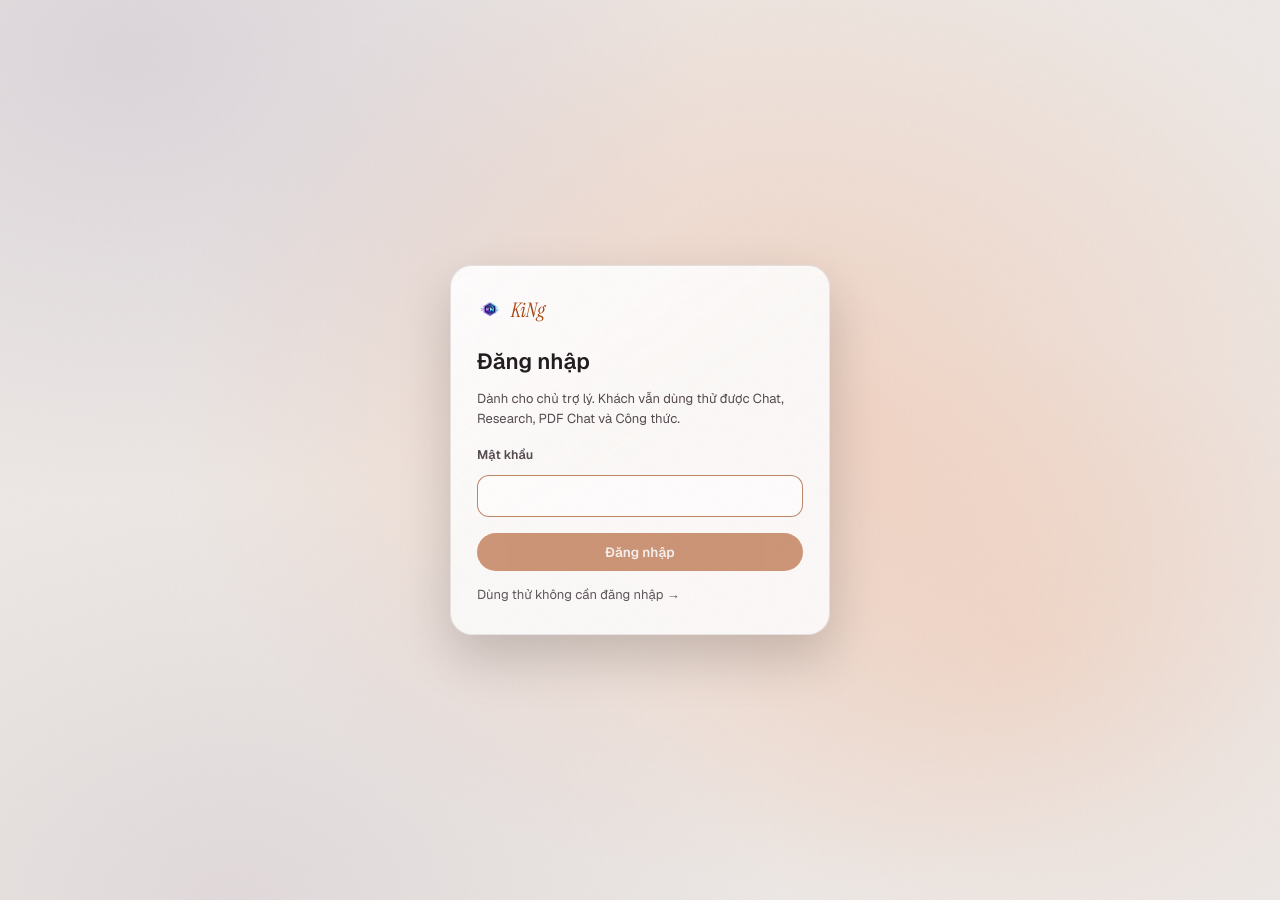
Test: login › says so when the password is wrong
In the password field labelled "Mật khẩu": (640, 496) [477,475,803,517], type "sai"
Then press Enter
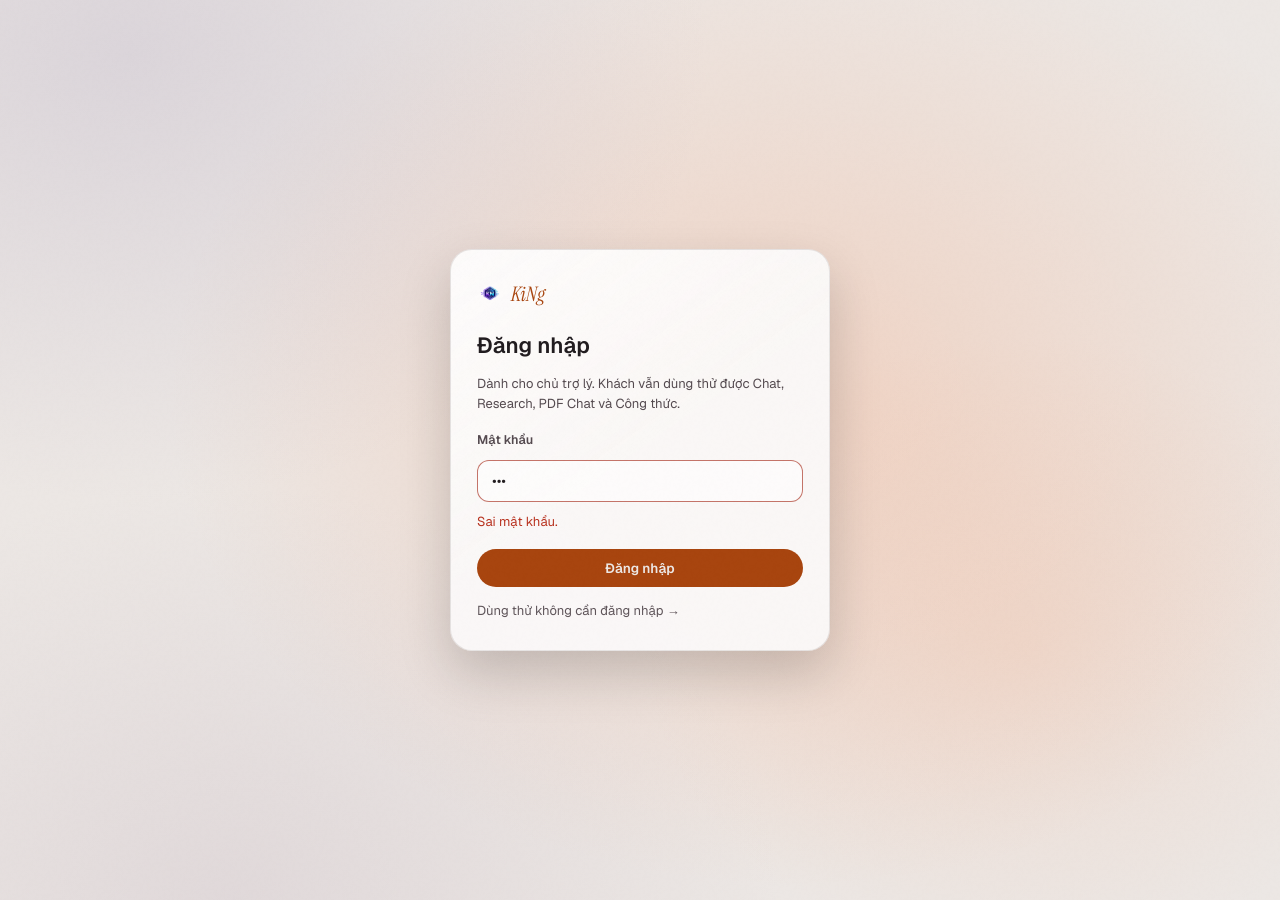
Expected: the text "Sai mật khẩu." is shown, [477,513,558,530]
